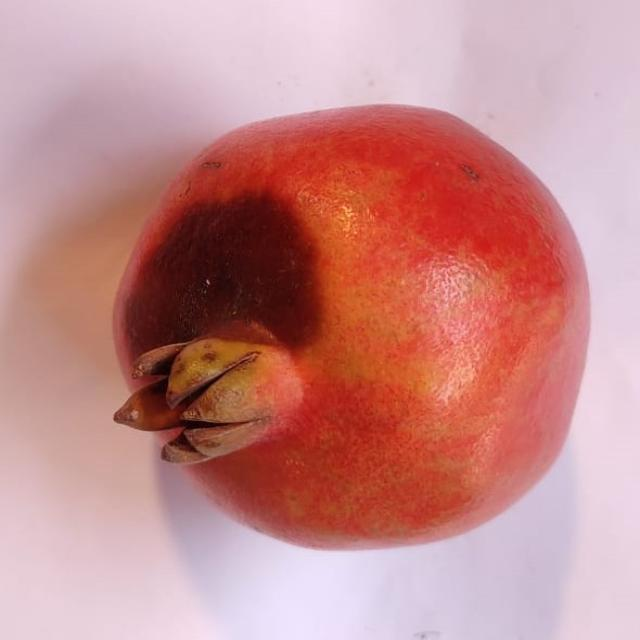Rotten: (110, 100, 597, 554)
